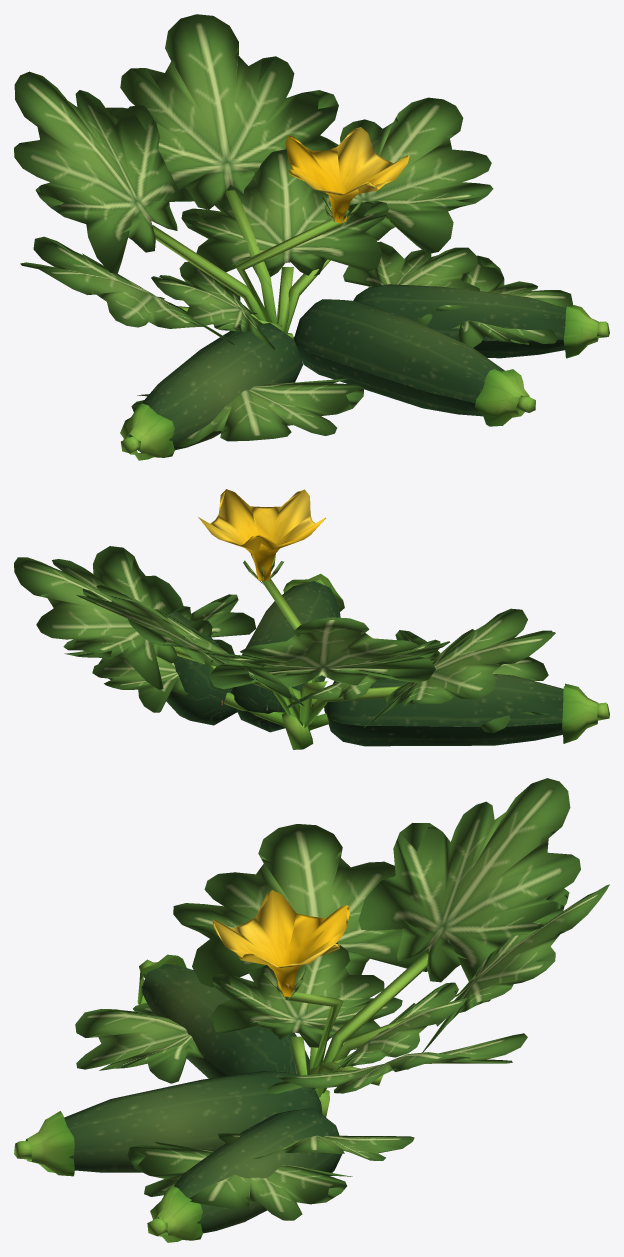
Rendered from NP_Zucchini_Ready_LOD1.fbx.
3 renders of one model, top to bottom at view 1: azimuth 30°, elevation 25°; view 2: azimuth 150°, elevation 25°; view 3: azimuth 270°, elevation 25°, orthographic. The views are drawn at different scales.
Parts seen in each view (by area): view 1: NP_Zucchini_Ready; view 2: NP_Zucchini_Ready; view 3: NP_Zucchini_Ready.
Boxes of the visible parts, <box> form: NP_Zucchini_Ready: <box>14,14,609,460</box>; NP_Zucchini_Ready: <box>14,489,609,749</box>; NP_Zucchini_Ready: <box>14,778,609,1242</box>.
Bounding box in the file's own units: 99.68 × 47.56 × 94.49.
